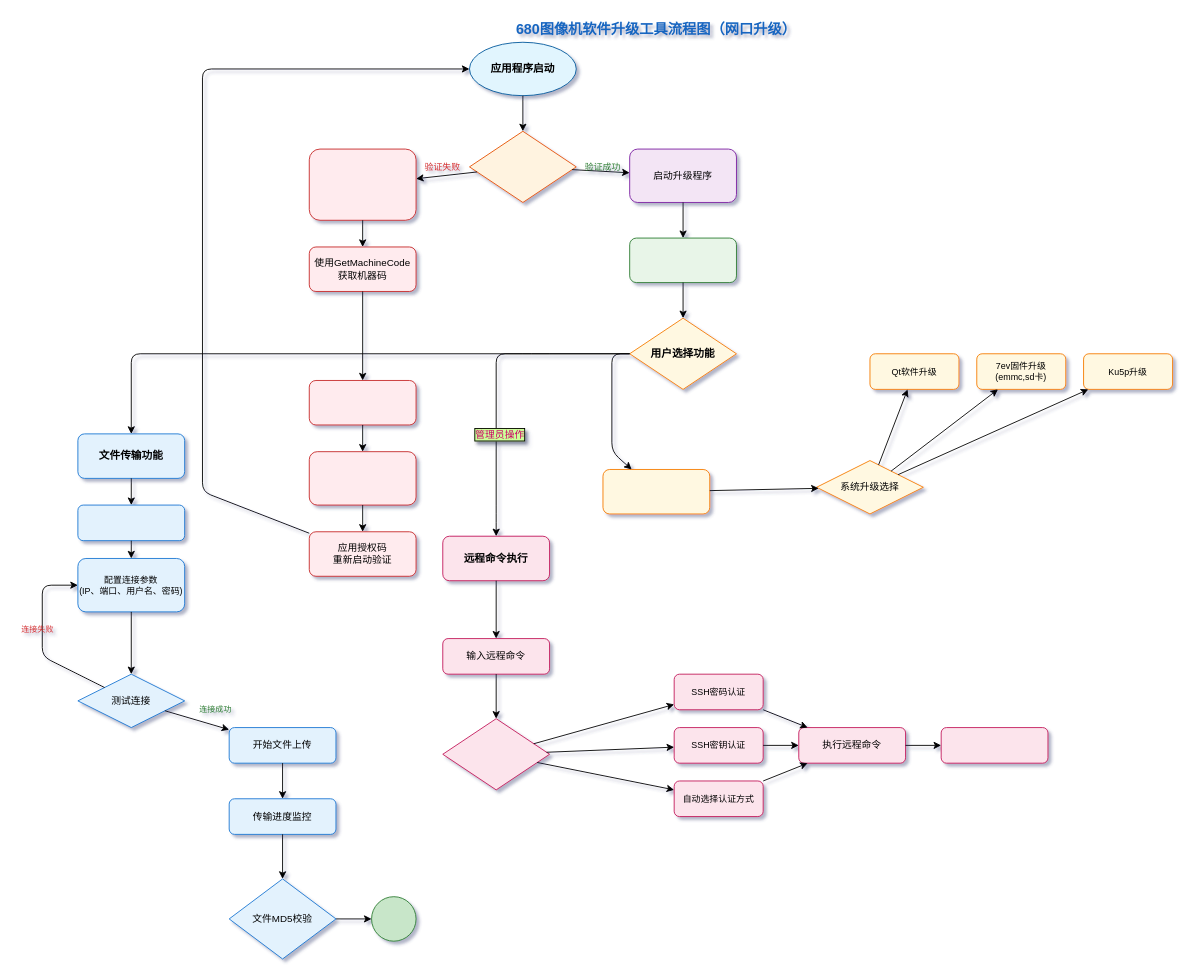
Some shapes in this 1193 by 980 pixel diagram are drawn without their labels. The shapes that lost their labels are listed below. From the top down, each one's box as (x1, y1, x2, y2) in pixels, then its label:
(308, 148, 416, 220): 显示错误信息 提示使用GetMachineCode 获取机器码
(469, 130, 576, 202): 机器授权验证
(629, 237, 736, 283): 主界面显示
(308, 380, 416, 425): 将机器码发送给管理员
(308, 451, 416, 505): 管理员使用GenerateAuth 生成授权码
(602, 469, 710, 514): 系统升级功能
(77, 504, 185, 541): 选择本地文件
(442, 718, 550, 790): 认证方式选择
(940, 727, 1048, 763): 实时显示命令输出
(371, 896, 416, 941): 传输完成
